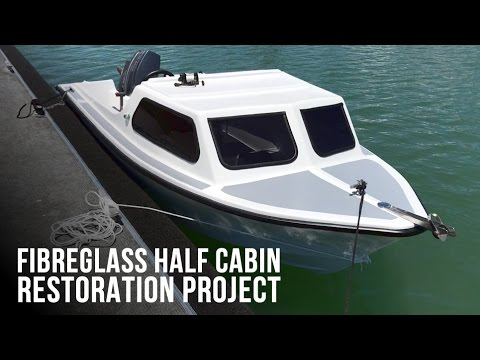boat_cabin: (50, 48, 455, 285)
